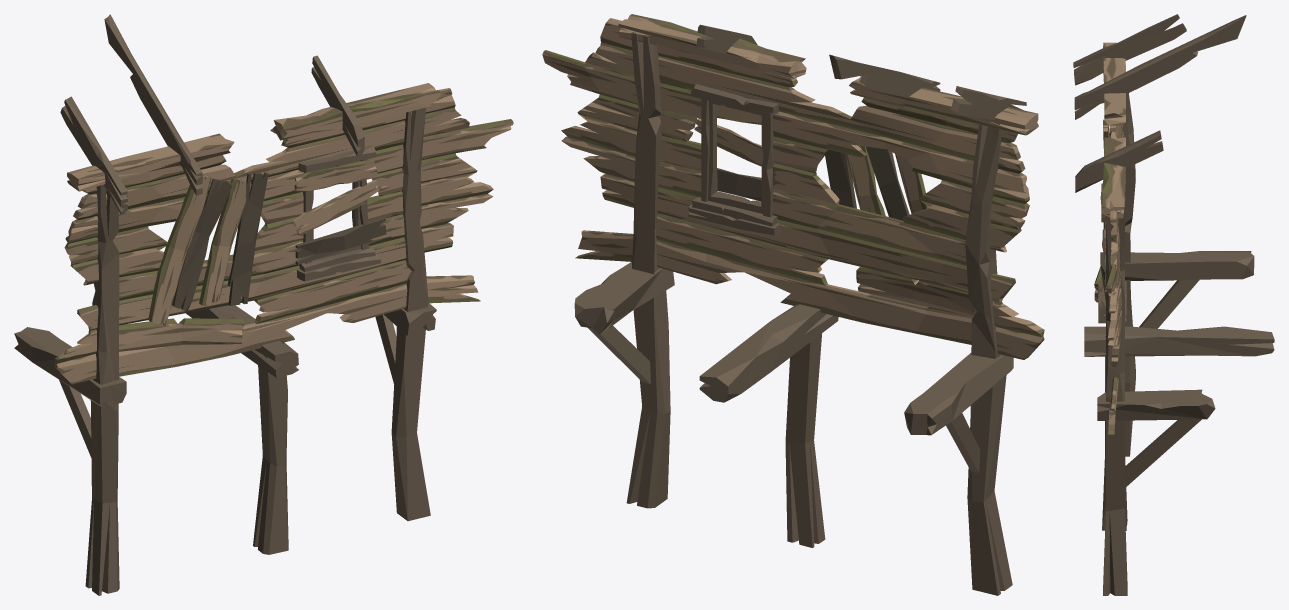
The model's file is swamp_SM_Bld_Shack_Ruins_01.gltf.
The picture shows the model from 3 angles, left to right: view 1: azimuth 30°, elevation 25°; view 2: azimuth 150°, elevation 25°; view 3: azimuth 270°, elevation 25°; orthographic projection. The views are drawn at different scales.
Parts seen in each view (by area): view 1: SM_Bld_Shack_Ruins_01; view 2: SM_Bld_Shack_Ruins_01; view 3: SM_Bld_Shack_Ruins_01.
Part boxes in pixels (<box>): SM_Bld_Shack_Ruins_01: <box>14,14,513,595</box>; SM_Bld_Shack_Ruins_01: <box>542,14,1044,595</box>; SM_Bld_Shack_Ruins_01: <box>1073,14,1274,595</box>.
Bounding box in the file's own units: 5.43 × 5.84 × 2.26.
Materials: 1 (1 with a texture image).
